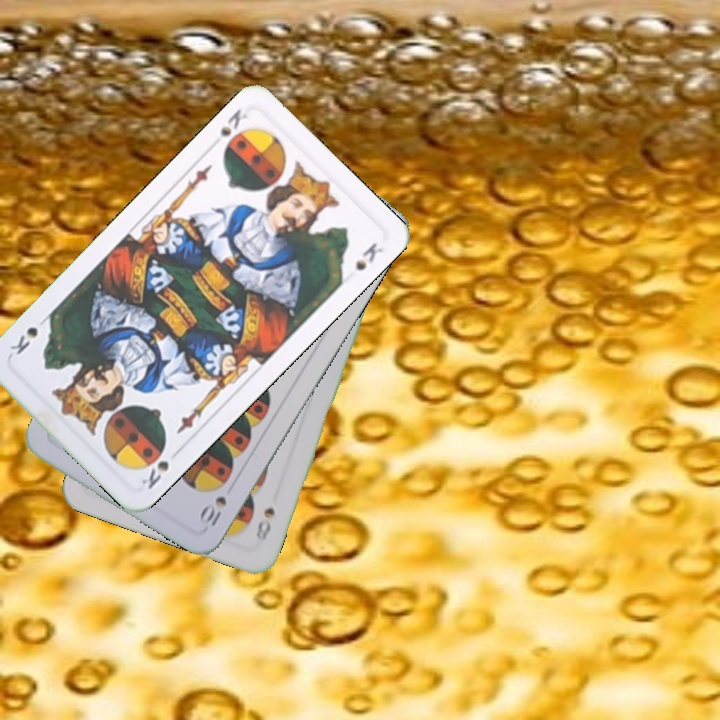S10: (197, 492, 230, 529)
S8: (251, 503, 278, 545)
SK: (214, 104, 250, 140), (137, 456, 172, 492)
